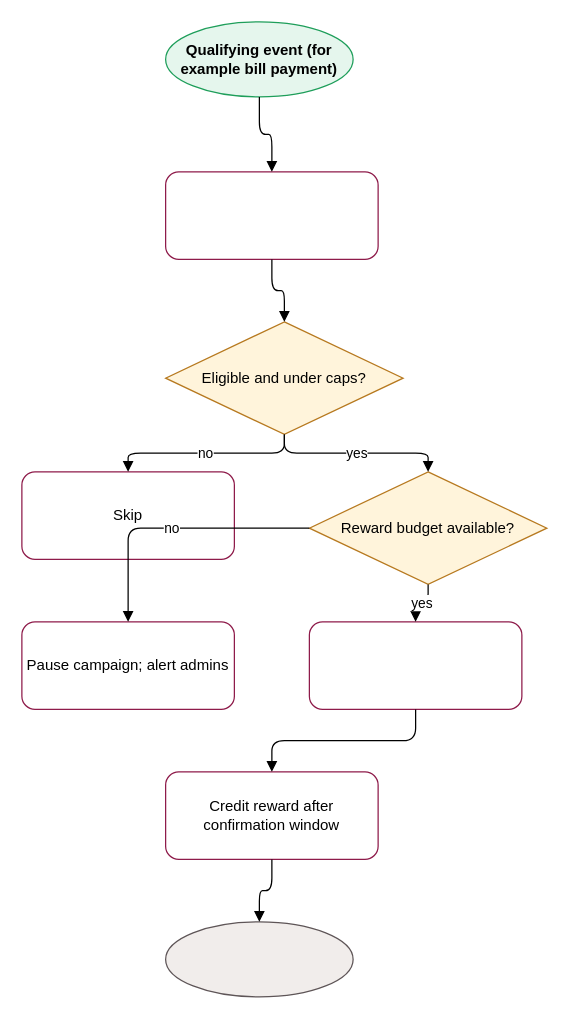
This 569x1019 diagram has some shape labels left out. Here are the shapes that lost their labels. From the top down, the centre of each, then its label:
(x=271, y=215): Evaluate campaign rules
(x=415, y=665): Create reward entry (pending)
(x=258, y=959): Notify customer
